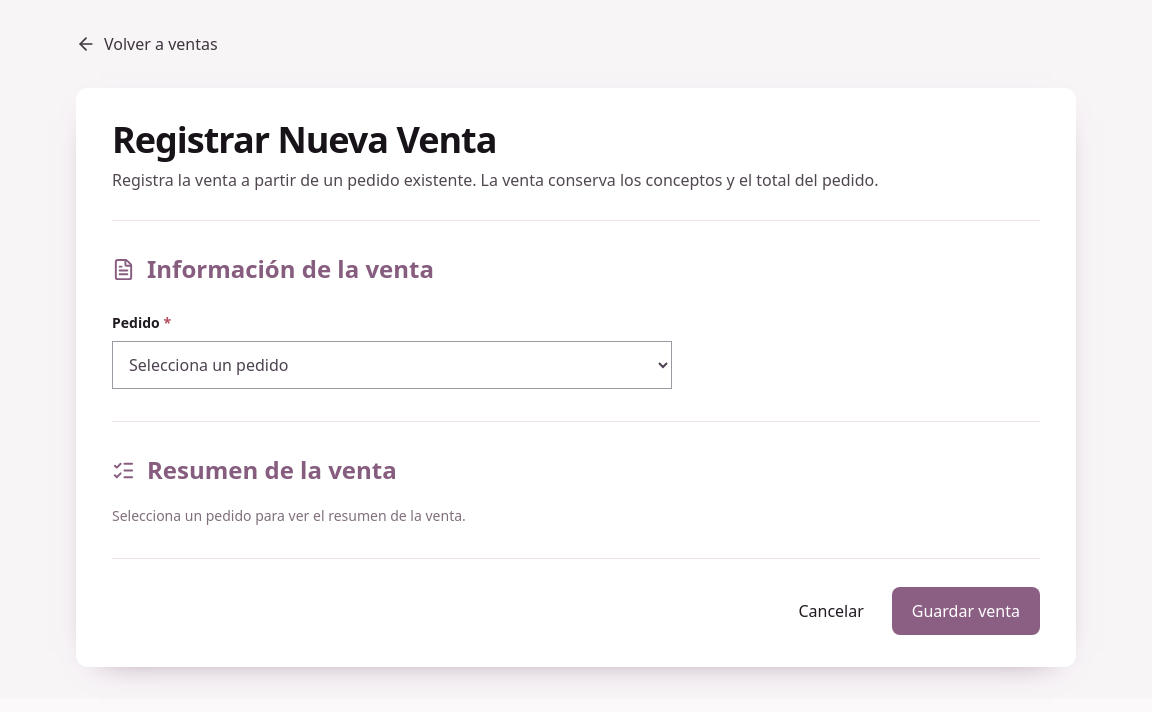
Test case: SaleFormPage › shows the selected order preview
The width and height of the screenshot is (1152, 712).
Select "ORD-1 · Ana Pérez" in the dropdown labelled "Pedido *": (392, 365) [112,341,672,389]
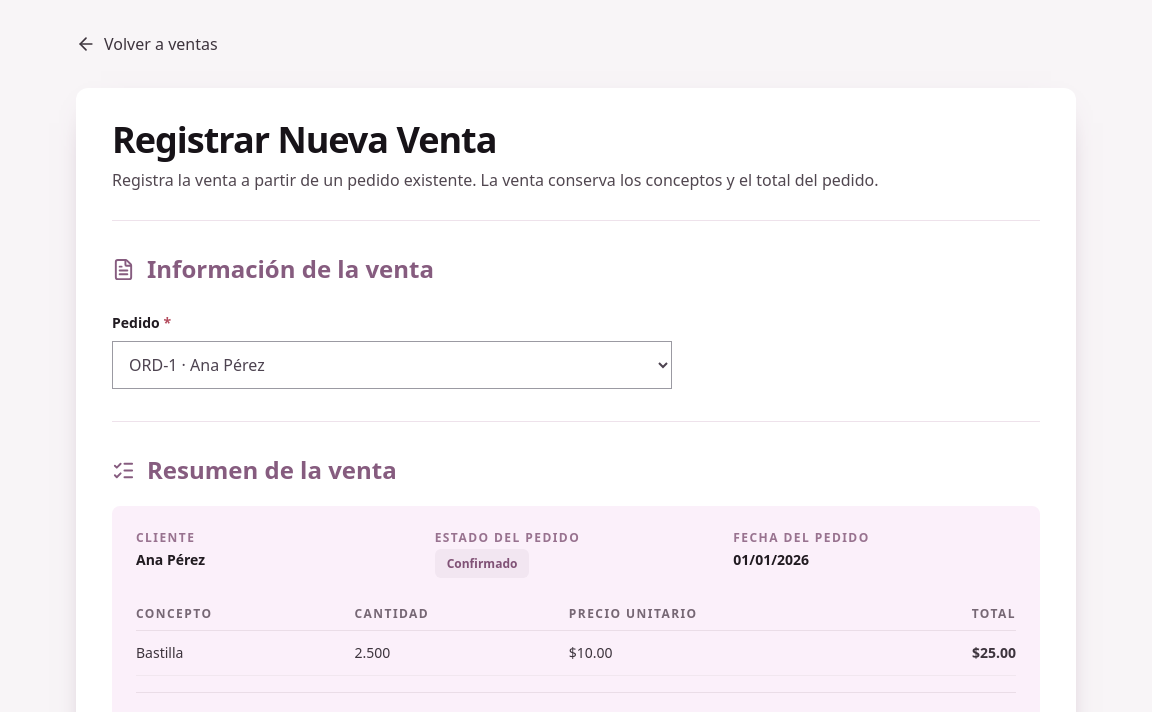
Now the text "Bastilla" is shown, box [136,630,354,676]
Now the text "$10.00" is shown, box [569,630,911,676]
